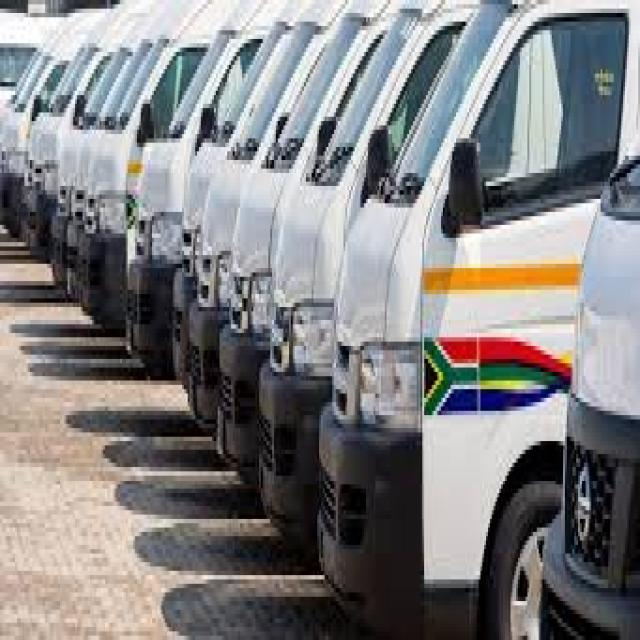MiniBus taxi: (312, 18, 572, 618), (255, 9, 377, 558), (203, 13, 298, 506), (173, 21, 253, 436), (124, 17, 197, 389), (77, 22, 143, 350), (51, 13, 94, 298)
